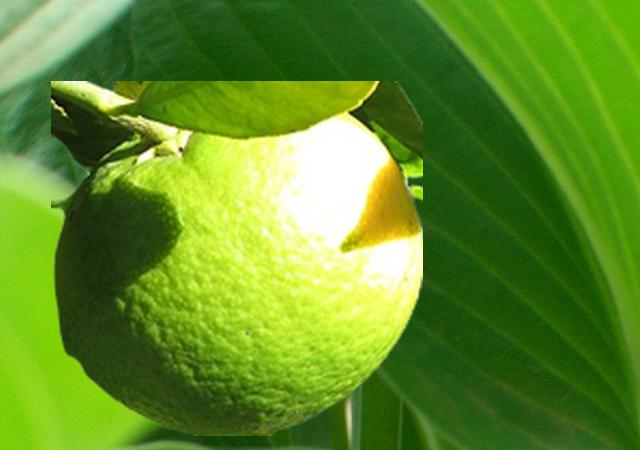dalandan: (51, 81, 421, 434)
